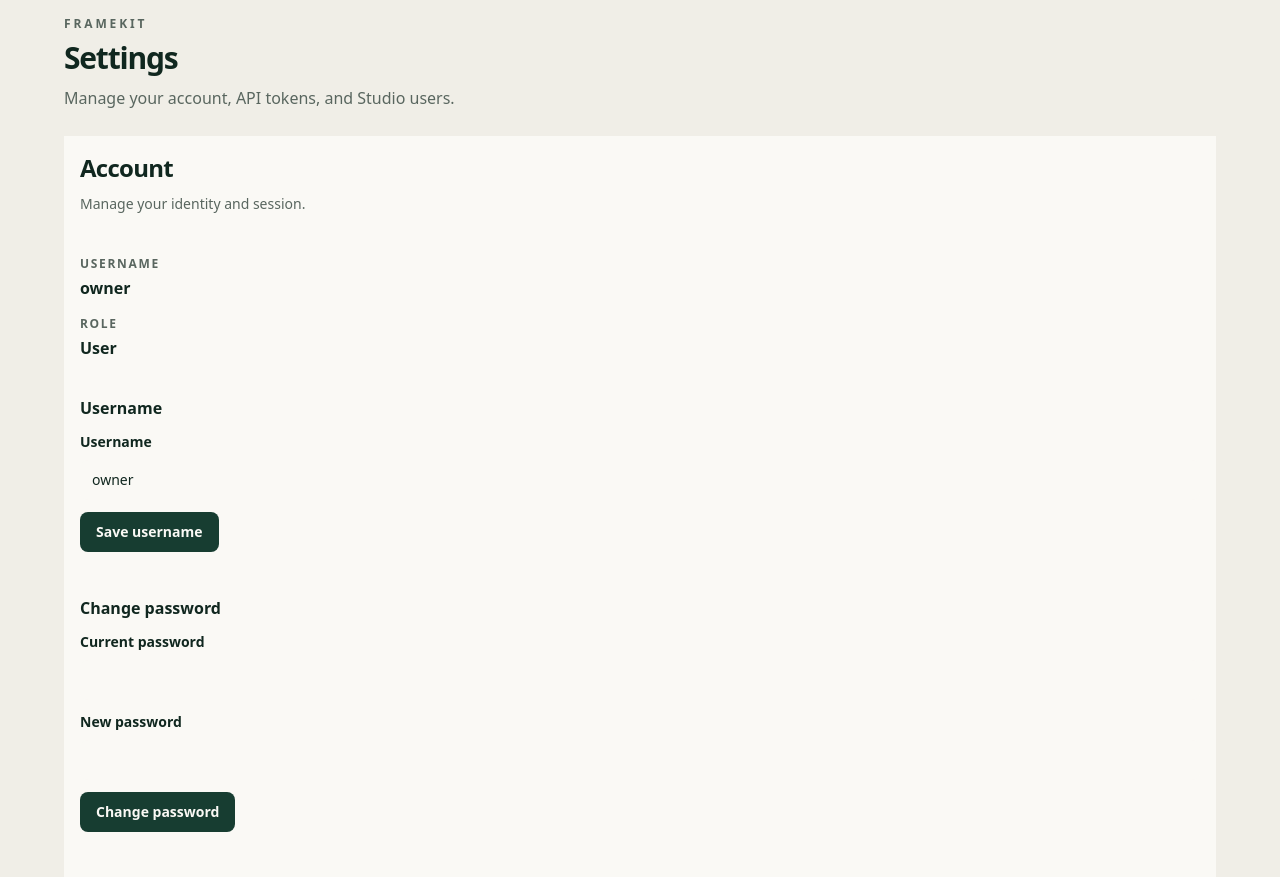
Scenario: FrameKitStudioSettings safe failures › maps conflict status to a transient localized toast without exposing response text
Replace the text in the field labelled "Username" with "new-owner" at (640, 480), box [80,460,1200,500]
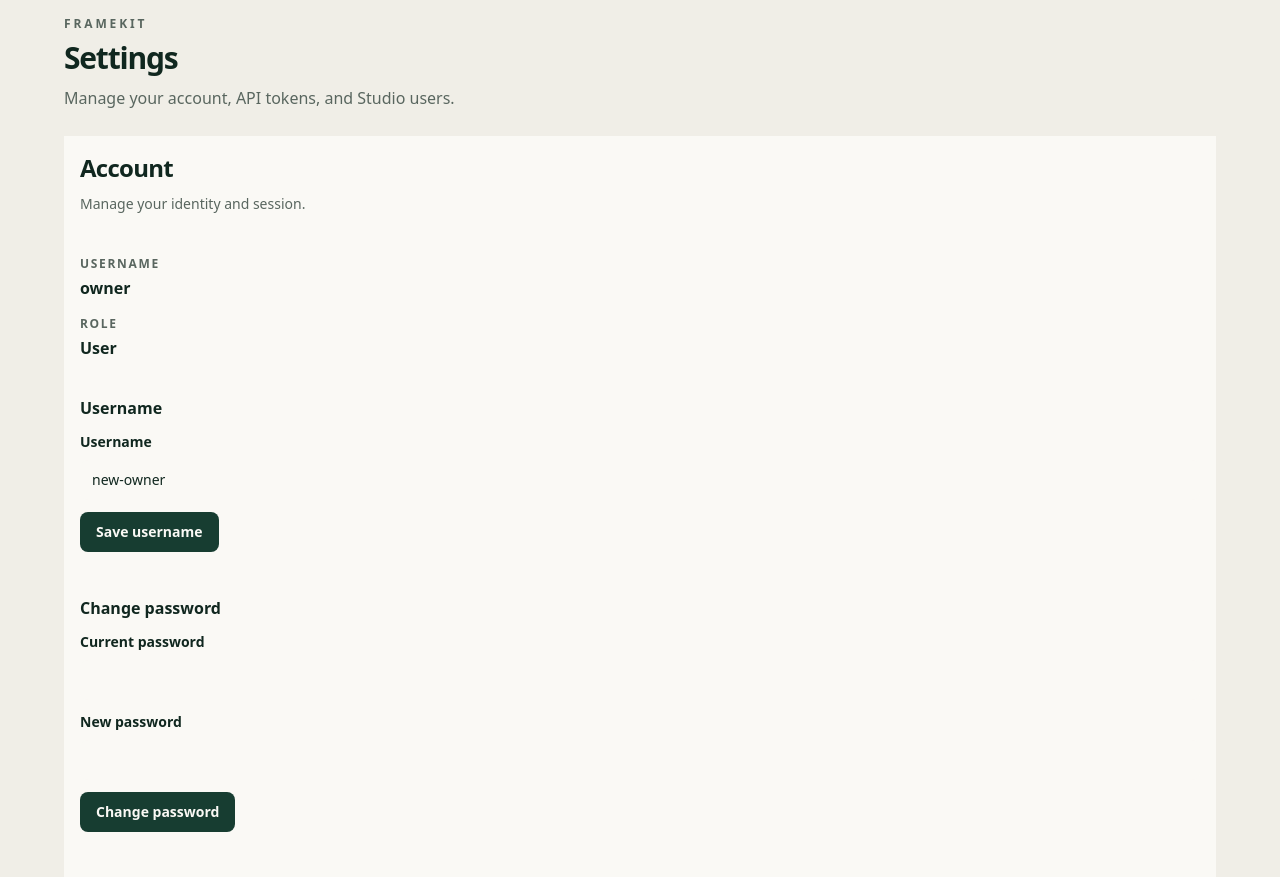
Submit the form "Save username", box [80,376,1200,552]
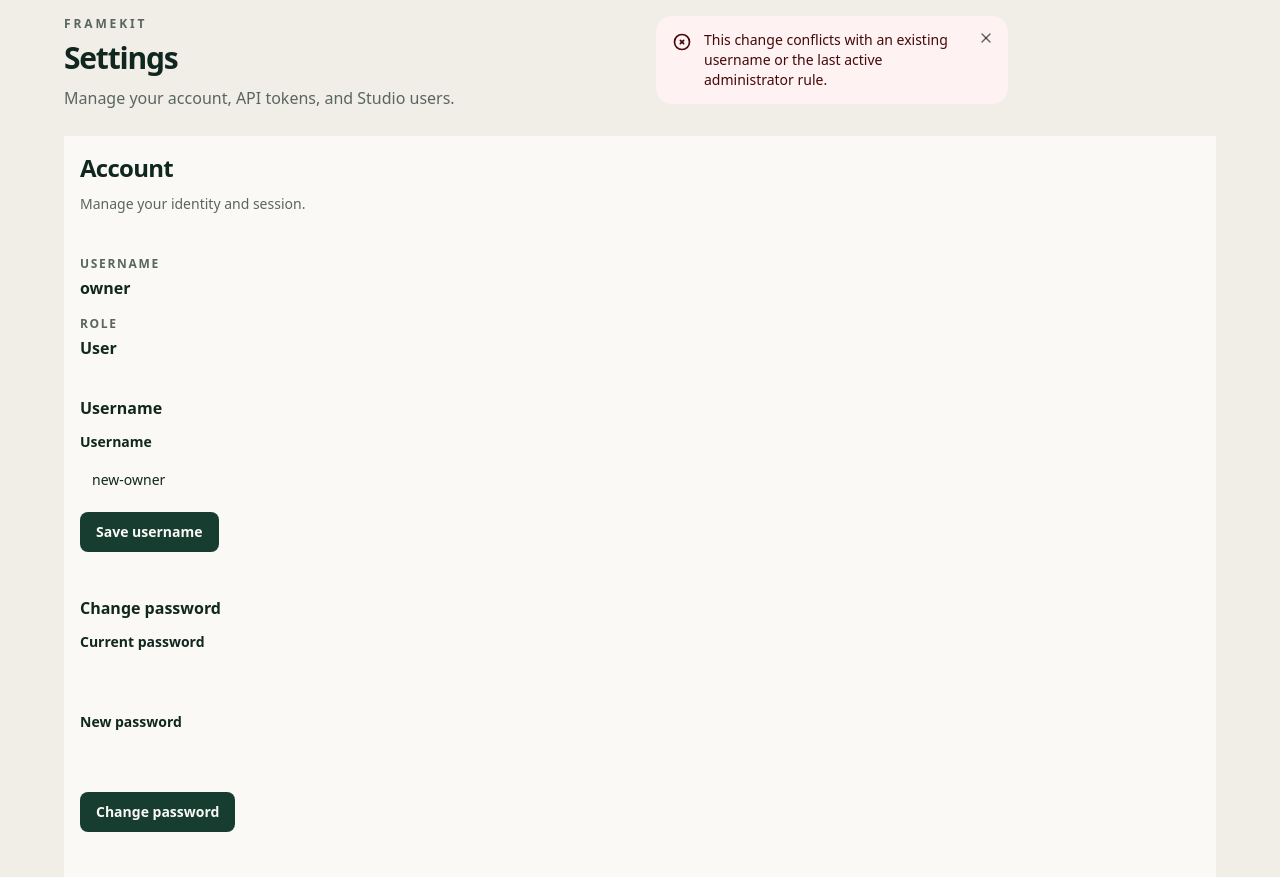
Check: the message shows "last active administrator", box [704,30,948,89]
Check: the button named "Close" is shown, box [972,24,1000,52]
